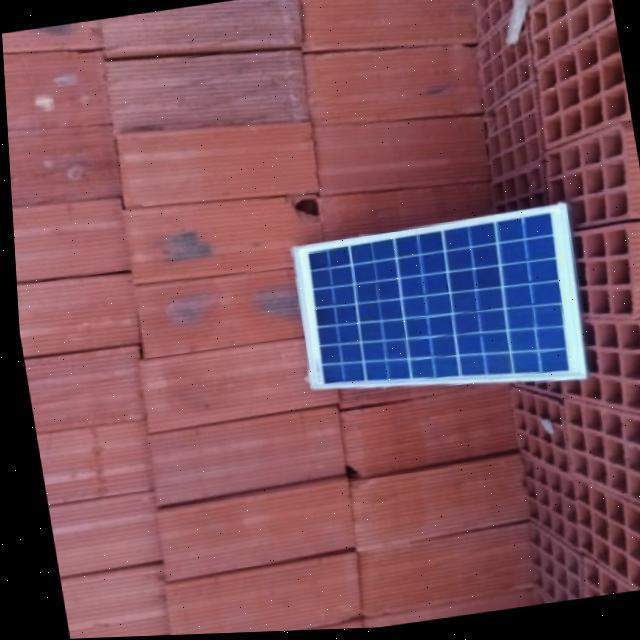Normal Solar Panel: (283, 206, 588, 418)
